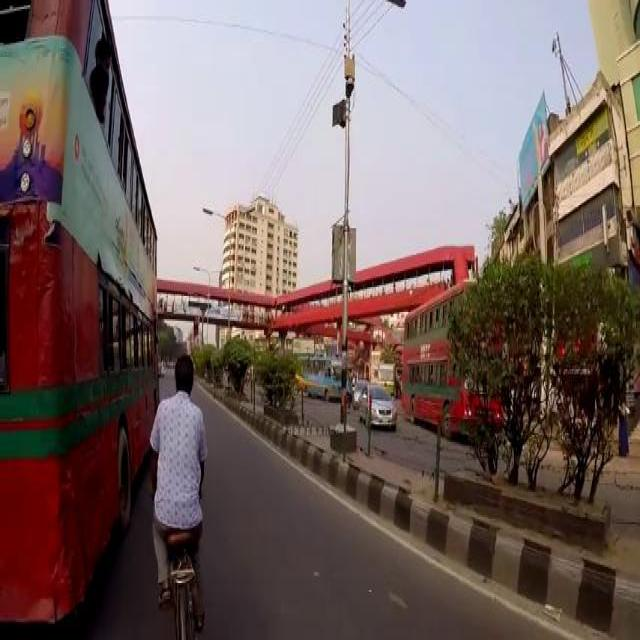5: (356, 382, 396, 426), (352, 377, 368, 402)
Motorcycle: (164, 526, 200, 636)
Truck: (0, 0, 157, 624), (399, 275, 503, 433), (294, 350, 340, 397)
